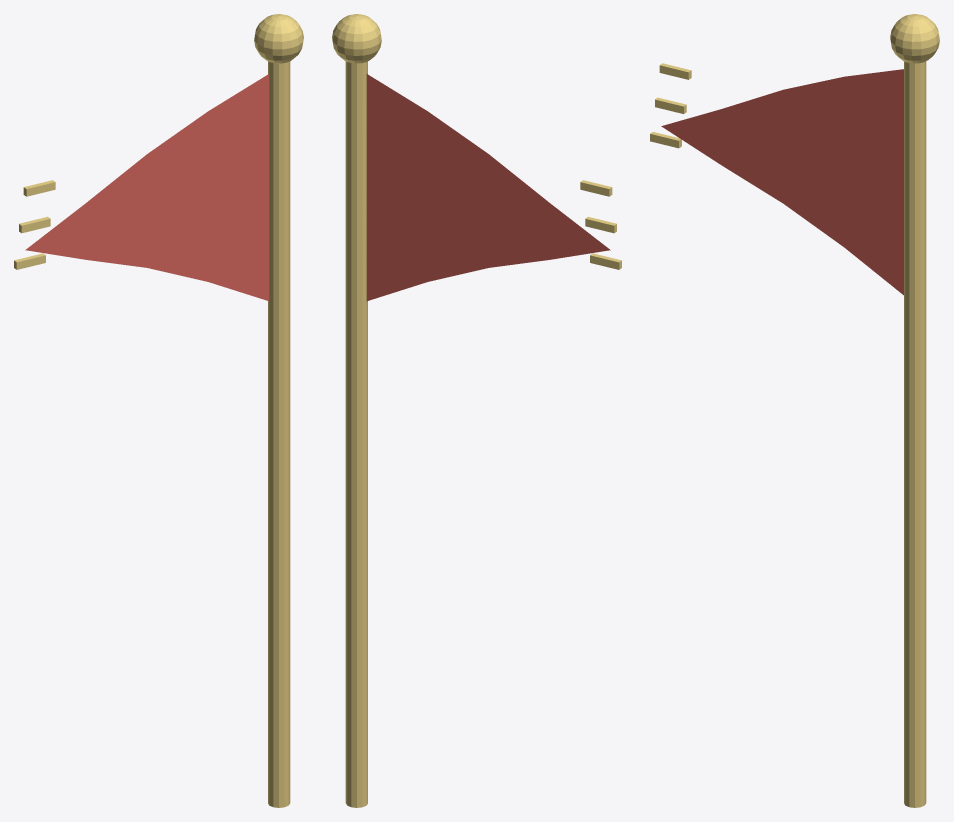
The model's file is item_62_red_flag.glb.
3 views of the same model, side by side, from view 1: azimuth 30°, elevation 25°; view 2: azimuth 150°, elevation 25°; view 3: azimuth 330°, elevation 25° (orthographic).
Visible parts, largest first — view 1: I62_Flag, I62_Pole, I62_Top; view 2: I62_Flag, I62_Pole, I62_Top; view 3: I62_Flag, I62_Pole, I62_Top.
Part boxes in pixels (left/top/right/bottom): I62_Flag: left=25, top=74, right=269, bottom=301; I62_Pole: left=268, top=61, right=290, bottom=807; I62_Top: left=254, top=14, right=303, bottom=63; I62_Flag: left=366, top=74, right=610, bottom=301; I62_Pole: left=345, top=61, right=367, bottom=807; I62_Top: left=332, top=14, right=381, bottom=63; I62_Flag: left=661, top=69, right=903, bottom=295; I62_Pole: left=904, top=61, right=926, bottom=807; I62_Top: left=890, top=14, right=939, bottom=63.
Size of the model in its own units: 0.118 by 0.311 by 0.018.
